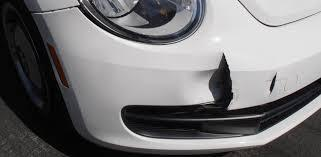front-bumper-dent: (59, 34, 289, 149)
